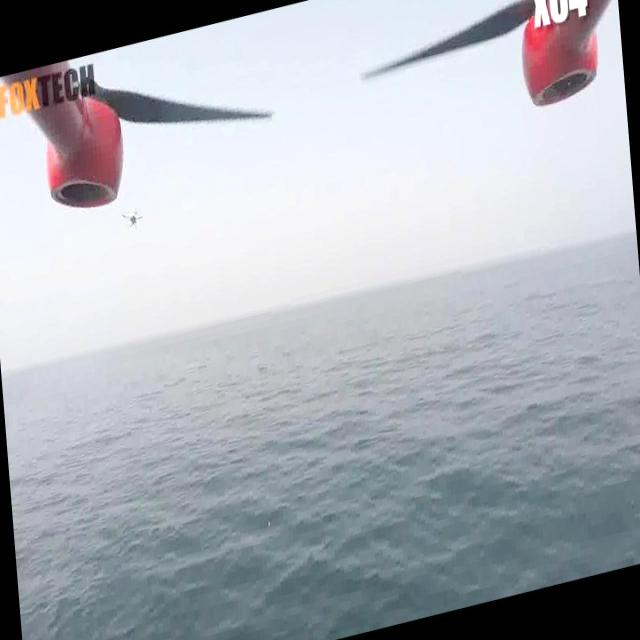drone: (118, 199, 144, 236)
